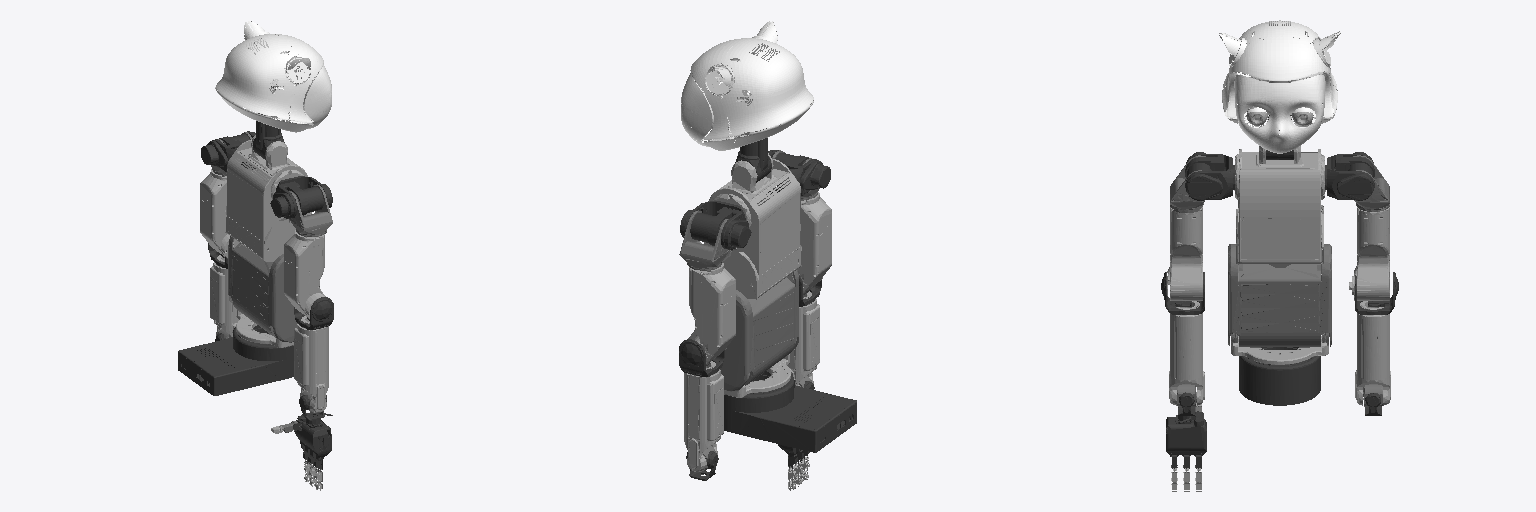
--- Render facts (derived) ---
The picture shows the robot from 3 angles, left to right: view 1: azimuth 30°, elevation 25°; view 2: azimuth 150°, elevation 25°; view 3: azimuth 270°, elevation 25°; orthographic projection.
Model dreamer with 47 links and 46 joints (39 revolute, 7 fixed), rooted at world, posed every joint at zero.
Links seen in each view (by area): view 1: upper_neck_pitch_link, torso_upper_pitch_link, panplate_link, torso_lower_pitch_link, right_shoulder_rotator_link, right_wrist_rotator_link, left_shoulder_rotator_link, right_shoulder_extensor_link, left_wrist_rotator_link, palm, right_shoulder_abductor_link, left_shoulder_extensor_link (+3 smaller); view 2: upper_neck_pitch_link, torso_upper_pitch_link, panplate_link, torso_lower_pitch_link, left_shoulder_rotator_link, left_wrist_rotator_link, right_shoulder_rotator_link, left_shoulder_extensor_link, right_wrist_rotator_link, left_shoulder_abductor_link, right_shoulder_extensor_link, left_elbow_link (+2 smaller); view 3: upper_neck_pitch_link, torso_upper_pitch_link, torso_lower_pitch_link, panplate_link, left_shoulder_rotator_link, right_shoulder_rotator_link, right_wrist_rotator_link, left_wrist_rotator_link, right_shoulder_extensor_link, left_shoulder_extensor_link, palm, torso_yaw_link (+4 smaller).
Boxes of the visible links, x1,y1,x2,y2 form: upper_neck_pitch_link: [215, 21, 331, 132]; torso_upper_pitch_link: [226, 135, 311, 261]; panplate_link: [178, 325, 293, 395]; torso_lower_pitch_link: [228, 236, 297, 342]; right_shoulder_rotator_link: [284, 230, 325, 318]; right_wrist_rotator_link: [294, 316, 328, 412]; left_shoulder_rotator_link: [200, 169, 229, 258]; right_shoulder_extensor_link: [270, 176, 332, 218]; left_wrist_rotator_link: [210, 255, 238, 337]; palm: [294, 413, 332, 460]; right_shoulder_abductor_link: [289, 184, 332, 236]; left_shoulder_extensor_link: [201, 131, 255, 171]; upper_neck_pitch_link: [681, 21, 813, 150]; torso_upper_pitch_link: [704, 153, 801, 299]; panplate_link: [724, 371, 856, 452]; torso_lower_pitch_link: [720, 270, 798, 391]; left_shoulder_rotator_link: [688, 263, 735, 363]; left_wrist_rotator_link: [684, 361, 723, 471]; right_shoulder_rotator_link: [797, 192, 831, 292]; left_shoulder_extensor_link: [680, 201, 751, 249]; right_wrist_rotator_link: [787, 291, 819, 385]; left_shoulder_abductor_link: [679, 210, 729, 271]; right_shoulder_extensor_link: [768, 150, 830, 195]; left_elbow_link: [679, 339, 724, 376]; upper_neck_pitch_link: [1219, 20, 1340, 153]; torso_upper_pitch_link: [1234, 146, 1325, 280]; torso_lower_pitch_link: [1228, 244, 1331, 347]; panplate_link: [1239, 347, 1320, 405]; left_shoulder_rotator_link: [1349, 207, 1389, 300]; right_shoulder_rotator_link: [1167, 207, 1202, 300]; right_wrist_rotator_link: [1169, 301, 1204, 405]; left_wrist_rotator_link: [1355, 301, 1390, 405]; right_shoulder_extensor_link: [1185, 152, 1234, 200]; left_shoulder_extensor_link: [1325, 152, 1374, 200]; palm: [1166, 411, 1206, 456]; torso_yaw_link: [1231, 333, 1328, 364].
Size in the robot's own frame: 0.3941 by 0.55 by 1.18 metres.
38 mesh visuals loaded from 27 distinct referenced files (24 binary STL); not drawn: 5 (reference not matched to a file when rendering).

The robot description file, URDF, robot "dreamer":
<?xml version="1.0" ?>
<!-- =================================================================================== -->
<!-- |    This document was autogenerated by xacro from dreamer_linked_to_world.xacro  | -->
<!-- |    EDITING THIS FILE BY HAND IS NOT RECOMMENDED                                 | -->
<!-- =================================================================================== -->
<robot name="dreamer" xmlns:controller="http://playerstage.sourceforge.net/gazebo/xmlschema/#controller" xmlns:interface="http://playerstage.sourceforge.net/gazebo/xmlschema/#interface" xmlns:joint="http://playerstage.sourceforge.net/gazebo/xmlschema/#slider" xmlns:sensor="http://playerstage.sourceforge.net/gazebo/xmlschema/#sensor" xmlns:xacro="http://ros.org/wiki/xacro">
  <!-- Gazebo uses model:// for the model path. -->
  <!-- RViz uses package:// for the model path. -->
  <!-- <property name="MESH" value="mid_res" /> -->
  <!-- Its seems that zero mass links are not kosher. I can't find any solid data, only suggestions from people
    as to what small but not too small should be for mass numbers.
    Until better evidence/experience says otherwise, we will use a mass that is ~0.1% * total_mass, and
    the inertia properties of a cylinder. Justification: Most of these virtual links are the rotor attached
    to gearing and any attachment structure.
     -->
  <!--Torso-->
  <!-- ensure that modelPath, MESH, TORSO are defined in parent xacro -->
  <!-- Arms -->
  <!-- ============================   Upper Arm   ============================ -->
  <!-- ============================   Forearm   ============================ -->
  <!-- for non-symmetric upper arm -->
  <!-- ============================   Upper Arm   ============================ -->
  <!-- ============================   Forearm   ============================ -->
  <!-- Meka Hand -->
  <!-- INERTIA MATRIX CHANGE BY POLAM, VALUE=0.0011100-->
  <!-- INERTIA MATRIX CHANGE BY POLAM, VALUE=0.0011100-->
  <!-- Meka Head -->
  <!-- INERTIA MATRIX CHANGE BY POLAM, VALUE=0.0011100-->
  <!-- Define various colors -->
  <material name="GreyA">
    <color rgba="0.3 0.3 0.3 1.0"/>
  </material>
  <material name="GreyB">
    <color rgba="0.5 0.5 0.5 1.0"/>
  </material>
  <material name="GreyC">
    <color rgba="0.7 0.7 0.7 1.0"/>
  </material>

  <material name="face_main">
    <color rgba="1.0 1.0 1.0 1.0"/>
  </material>
  <material name="hair_main">
    <color rgba="1.0 0.5 0.0 1.0"/>
  </material>

  <!-- Add Dreamer's torso and specify the height of the pan plate above the ground. -->
  <link name="panplate_link">
    <inertial>
      <mass value="8"/>
      <origin xyz="0 0 0.8"/>
      <inertia ixx=".8" ixy="0" ixz="0" iyy=".8" iyz="0" izz=".8"/>
    </inertial>
    <visual>
      <material name="GreyA"/>
      <origin rpy="0 0 0 " xyz="0 0 0.8"/>
      <geometry name="panplate_geom">
        <mesh filename="package://dreamer_viz/models/dreamer/meka_description/meshes/optimized/T2R3/T2R3_TJ0_base.stl"/>
      </geometry>
    </visual>
    <collision>
      <origin rpy="0.0 0.0 0.0 " xyz="0 0 0.8"/>
      <geometry name="base_collision_geom">
        <mesh filename="package://dreamer_viz/models/dreamer/meka_description/meshes/low_res/T2R3/T2R3_TJ0_base.stl"/>
      </geometry>
    </collision>
  </link>
  <joint name="torso_yaw" type="fixed">
    <axis xyz="0 0 1"/>
    <origin rpy="0 0 0" xyz="0 0 0.9678"/>
    <parent link="panplate_link"/>
    <child link="torso_yaw_link"/>
    <limit effort="100" lower="-1.57079632679" upper="1.57079632679" velocity="0.436332312999"/>
    <dynamics damping="1.0"/>
  </joint>
  <link name="torso_yaw_link">
    <inertial>
      <mass value="4.411"/>
      <origin xyz="0.00011774 0.0038073 -0.0522753"/>
      <inertia ixx="0.026360" ixy="-0.0000024" ixz="-0.0000508" iyy="0.0134266" iyz="0.0006839" izz="0.0229879"/>
    </inertial>
    <visual>
      <material name="GreyC"/>
      <origin rpy="0 0 0 " xyz="0 0 0"/>
      <geometry name="torso_geom">
        <mesh filename="package://dreamer_viz/models/dreamer/meka_description/meshes/optimized/T2R3/T2R3_TJ1_pan.stl"/>
      </geometry>
    </visual>
    <collision>
      <origin rpy="0.0 0.0 0.0 " xyz="0 0 0"/>
      <geometry name="torso_collision_geom">
        <mesh filename="package://dreamer_viz/models/dreamer/meka_description/meshes/low_res/T2R3/T2R3_TJ1_pan.stl"/>
      </geometry>
    </collision>
  </link>
  <joint name="torso_lower_pitch" type="revolute">
    <axis xyz="0 1 0"/>
    <origin rpy="0 0 0" xyz="0 0 0"/>
    <parent link="torso_yaw_link"/>
    <child link="torso_lower_pitch_link"/>
    <limit effort="200" lower="-0.366519142919" upper="0.872664625997" velocity="0.174532925199"/>
    <dynamics damping="1.0"/>
  </joint>
  <link name="torso_lower_pitch_link">
    <inertial>
      <mass value="4.934"/>
      <origin xyz="0.001179 -0.002993 0.046259"/>
      <inertia ixx="0.041106" ixy="0.000135" ixz="0.000505" iyy="0.026009" iyz="0.002396" izz="0.025902"/>
    </inertial>
    <visual>
      <material name="GreyB"/>
      <origin rpy="0 0 0" xyz="0 0 0"/>
      <geometry name="mid_geom">
        <mesh filename="package://dreamer_viz/models/dreamer/meka_description/meshes/optimized/T2R3/T2R3_TJ2.stl"/>
      </geometry>
    </visual>
    <collision>
      <origin rpy="0.0 0.0 0.0 " xyz="0 0 0"/>
      <geometry name="mid_collision_geom">
        <mesh filename="package://dreamer_viz/models/dreamer/meka_description/meshes/low_res/T2R3/T2R3_TJ2.stl"/>
      </geometry>
    </collision>
  </link>
  <joint name="torso_upper_pitch" type="revolute">
    <axis xyz="0 1 0"/>
    <origin rpy="0 0 0" xyz="0 0 0.1397"/>
    <parent link="torso_lower_pitch_link"/>
    <child link="torso_upper_pitch_link"/>
    <limit effort="200" lower="-0.366519142919" upper="0.872664625997" velocity="0.174532925199"/>
    <dynamics damping="1.0"/>
  </joint>
  <!-- torso with motors, bottom pullies, and neck mount -->
  <link name="torso_upper_pitch_link">
    <inertial>
      <mass value="6.534"/>
      <origin xyz="0.008700 0.011470 0.129740"/>
      <inertia ixx="0.069760" ixy="-0.000400" ixz="0.001300" iyy="0.048010" iyz="0.005100" izz="0.040590"/>
    </inertial>
    <visual>
      <material name="GreyC"/>
      <origin rpy="0 0 0" xyz="0 0 0"/>
      <geometry name="upper_geom">
        <mesh filename="package://dreamer_viz/models/dreamer/meka_description/meshes/optimized/T2R3/T2R3_TJ3_chest_waist_neck.stl"/>
      </geometry>
    </visual>
    <collision>
      <origin rpy="0.0 0.0 0.0 " xyz="0 0 0"/>
      <geometry name="upper_collision_geom">
        <mesh filename="package://dreamer_viz/models/dreamer/meka_description/meshes/low_res/T2R3/T2R3_TJ3_chest_waist_neck.stl"/>
      </geometry>
    </collision>
  </link>
  <!-- Add left and right arms. -->
  <!-- Shoulder pan -->
  <joint name="right_shoulder_extensor" type="revolute">
    <axis xyz="0 -1 0"/>
    <origin rpy="0 0 0" xyz="0.0 -0.18465 0.2337"/>
    <!-- transform from parent link to this joint frame -->
    <parent link="torso_upper_pitch_link"/>
    <child link="right_shoulder_extensor_link"/>
    <limit effort="40" lower="-1.3962634016" upper="3.49065850399" velocity="0.523598775598"/>
    <dynamics damping="1.0"/>
  </joint>
  <link name="right_shoulder_extensor_link">
    <inertial>
      <mass value="2.0310"/>
      <origin xyz="-0.010946 0.025127 0.000022"/>
      <inertia ixx="0.003461" ixy="0.000428" ixz="0.000002" iyy="0.003097" iyz="0.000000" izz="0.005416"/>
    </inertial>
    <visual>
      <material name="GreyA"/>
      <origin rpy="0 0 0 " xyz="0 0 0"/>
      <geometry name="r_shoulder_geom">
        <mesh filename="package://dreamer_viz/models/dreamer/meka_description/meshes/optimized/A2R3/A2R3_RT1_shoulderRoll.stl"/>
      </geometry>
    </visual>
    <collision>
      <origin rpy="0.0 0.0 0.0 " xyz="0 0 0"/>
      <geometry name="r_shoulder_collision_geom">
        <mesh filename="package://dreamer_viz/models/dreamer/meka_description/meshes/low_res/A2R3/A2R3_RT1_shoulderRoll.stl"/>
      </geometry>
    </collision>
  </link>
  <joint name="right_shoulder_abductor" type="revolute">
    <axis xyz="-1 0 0"/>
    <limit effort="40" lower="-0.418879020479" upper="2.61799387799" velocity="0.523598775598"/>
    <origin rpy="0 0 0" xyz="0 0 0"/>
    <parent link="right_shoulder_extensor_link"/>
    <child link="right_shoulder_abductor_link"/>
    <dynamics damping="1.0"/>
  </joint>
  <link name="right_shoulder_abductor_link">
    <inertial>
      <mass value="0.566"/>
      <origin xyz="0.000944 -0.026331 -0.043257"/>
      <inertia ixx="0.000754" ixy="0.000015" ixz="0.000014" iyy="0.000921" iyz="0.000142" izz="0.000834"/>
    </inertial>
    <visual>
      <material name="GreyB"/>
      <origin rpy="0 0 0 " xyz="0 0 0"/>
      <geometry name="right_shoulder_abductor_link">
        <mesh filename="package://dreamer_viz/models/dreamer/meka_description/meshes/optimized/A2R3/A2R3_RT2_shoulderPitch.stl"/>
      </geometry>
    </visual>
    <collision>
      <origin rpy="0.0 0.0 0.0 " xyz="0 0 0"/>
      <geometry name="right_shoulder_abductor_link_collision">
        <mesh filename="package://dreamer_viz/models/dreamer/meka_description/meshes/low_res/A2R3/A2R3_RT2_shoulderPitch.stl"/>
      </geometry>
    </collision>
  </link>
  <joint name="right_shoulder_rotator" type="revolute">
    <axis xyz="0 0 -1"/>
    <origin rpy="0 0 0" xyz="0 -0.03175 -0.27857"/>
    <parent link="right_shoulder_abductor_link"/>
    <child link="right_shoulder_rotator_link"/>
    <limit effort="20" lower="-1.4835298642" upper="1.4835298642" velocity="0.872664625997"/>
    <dynamics damping="1.0"/>
  </joint>
  <link name="right_shoulder_rotator_link">
    <inertial>
      <mass value="2.296"/>
      <origin xyz="-0.005767 0.084539 0.001385"/>
      <inertia ixx="0.013031" ixy="-0.000564" ixz="-0.000077" iyy="0.002070" iyz="0.000162" izz="0.013173"/>
    </inertial>
    <visual>
      <material name="GreyC"/>
      <origin rpy="0 0 0 " xyz="0 0 0"/>
      <geometry name="right_shoulder_rotator_link_geom">
        <mesh filename="package://dreamer_viz/models/dreamer/meka_description/meshes/optimized/A2R3/A2R3_RT3_bicep.stl"/>
      </geometry>
    </visual>
    <collision>
      <origin rpy="0.0 0.0 0.0 " xyz="0 0 0"/>
      <geometry name="right_shoulder_rotator_link_geom_collision">
        <mesh filename="package://dreamer_viz/models/dreamer/meka_description/meshes/low_res/A2R3/A2R3_RT3_bicep.stl"/>
      </geometry>
    </collision>
  </link>
  <joint name="right_elbow" type="revolute">
    <axis xyz="0 -1 0"/>
    <origin rpy="0 0 0" xyz="0.00502 0  0"/>
    <parent link="right_shoulder_rotator_link"/>
    <child link="right_elbow_link"/>
    <limit effort="20" lower="-0.00486908464063" upper="2.31810267927" velocity="0.872664625997"/>
    <!-- <dynamics damping="10.0" /> -->
    <dynamics damping="1.0"/>
    <!-- Changed by liang to allow elbow to bend in simulation -->
  </joint>
  <link name="right_elbow_link">
    <inertial>
      <mass value="0.223"/>
      <origin xyz="-0.000002 0.000278 -0.026124"/>
      <inertia ixx="0.000470" ixy="0.000000" ixz="0.000000" iyy="0.000233" iyz="0.000019" izz="0.000425"/>
    </inertial>
    <visual>
      <material name="GreyA"/>
      <origin rpy="0 0 0 " xyz="0 0 0"/>
      <geometry name="right_elbow_link_geom">
        <mesh filename="package://dreamer_viz/models/dreamer/meka_description/meshes/optimized/A2R3/A2R3_RT4_elbow.stl"/>
      </geometry>
    </visual>
    <collision>
      <origin rpy="0.0 0.0 0.0 " xyz="0 0 0"/>
      <geometry name="right_elbow_link_collision">
        <mesh filename="package://dreamer_viz/models/dreamer/meka_description/meshes/low_res/A2R3/A2R3_RT4_elbow.stl"/>
      </geometry>
    </collision>
  </link>
  <joint name="right_wrist_rotator" type="revolute">
    <axis xyz="0 0 -1"/>
    <limit effort="4" lower="-0.862192650485" upper="4.00378530407" velocity="2.61799387799"/>
    <origin rpy="0 0 0" xyz="0 0 -0.27747"/>
    <parent link="right_elbow_link"/>
    <child link="right_wrist_rotator_link"/>
    <dynamics damping="1.0"/>
  </joint>
  <link name="right_wrist_rotator_link">
    <inertial>
      <mass value="1.468"/>
      <origin xyz="-0.004404 0.000124 0.130931"/>
      <inertia ixx="0.006099" ixy="0.000004" ixz="-0.000043" iyy="0.006120" iyz="0.000015" izz="0.001179"/>
    </inertial>
    <visual>
      <material name="GreyC"/>
      <origin rpy="0 0 0 " xyz="0 0 0"/>
      <geometry name="right_wrist_rotator_link_geom">
        <mesh filename="package://dreamer_viz/models/dreamer/meka_description/meshes/optimized/A2R3/A2R3_T5_forearmRoll.stl"/>
      </geometry>
    </visual>
    <collision>
      <origin rpy="0.0 0.0 0.0 " xyz="0 0 0"/>
      <geometry name="right_wrist_rotator_link_collision">
        <mesh filename="package://dreamer_viz/models/dreamer/meka_description/meshes/low_res/A2R3/A2R3_T5_forearmRoll.stl"/>
      </geometry>
    </collision>
  </link>
  <joint name="right_wrist_pitch" type="revolute">
    <dynamics damping="1.0"/>
    <axis xyz="0 -1 0"/>
    <origin rpy="0 0 0" xyz="0 0 0"/>
    <parent link="right_wrist_rotator_link"/>
    <child link="right_wrist_pitch_link"/>
    <limit effort="8" lower="-1.02677719895" upper="1.02677719895" velocity="0.698131700798"/>
  </joint>
  <link name="right_wrist_pitch_link">
    <inertial>
      <mass value="0.278"/>
      <origin xyz="0.00008 0.00163 0.00123"/>
      <inertia ixx="0.00013" ixy="0" ixz="0" iyy="0.00014" iyz="0" izz="0.0009"/>
    </inertial>
    <visual>
      <material name="GreyB"/>
      <origin rpy="0 0 0 " xyz="0 0 0"/>
      <geometry name="right_wrist_pitch_link_geom">
        <mesh filename="package://dreamer_viz/models/dreamer/meka_description/meshes/optimized/A2R3/A2R3_T6_wristDiff.stl"/>
      </geometry>
    </visual>
    <collision>
      <origin rpy="0.0 0.0 0.0 " xyz="0 0 0"/>
      <geometry name="right_wrist_pitch_link_collision">
        <box size="0.01 0.01 0.01"/>
      </geometry>
    </collision>
  </link>
  <joint name="right_wrist_yaw" type="revolute">
    <axis xyz="-1 0 0"/>
    <limit effort="8" lower="-1.0471975512" upper="1.0471975512" velocity="0.698131700798"/>
    <origin rpy="0 0 0" xyz="0 0 0"/>
    <parent link="right_wrist_pitch_link"/>
    <child link="right_wrist_yaw_link"/>
    <dynamics damping="1.0"/>
  </joint>
  <link name="right_wrist_yaw_link">
    <inertial>
      <mass value="0.093"/>
      <origin xyz="-0.00286  -0.00207 -0.10657"/>
      <inertia ixx="0.00485" ixy="0" ixz="0" iyy="0.00508" iyz="0" izz="0.00081"/>
    </inertial>
    <visual>
      <material name="GreyA"/>
      <origin rpy="0 0 0 " xyz="0 0 0"/>
      <geometry name="right_wrist_yaw_link_geom">
        <mesh filename="package://dreamer_viz/models/dreamer/meka_description/meshes/optimized/A2R3/A2R3_T7_wristYaw.stl"/>
      </geometry>
    </visual>
    <collision>
      <origin rpy="0.0 0.0 0.0 " xyz="0 0 0"/>
      <geometry name="right_wrist_yaw_link_collision">
        <mesh filename="package://dreamer_viz/models/dreamer/meka_description/meshes/low_res/A2R3/A2R3_T7_wristYaw.stl"/>
      </geometry>
    </collision>
  </link>
  <!-- Shoulder pan -->
  <joint name="left_shoulder_extensor" type="revolute">
    <axis xyz="0 -1 0"/>
    <origin rpy="0 0 0" xyz="0.0 0.18465 0.2337"/>
    <!-- transform from parent link to this joint frame -->
    <parent link="torso_upper_pitch_link"/>
    <child link="left_shoulder_extensor_link"/>
    <limit effort="40" lower="-1.3962634016" upper="3.49065850399" velocity="0.523598775598"/>
    <dynamics damping="1.0"/>
  </joint>
  <link name="left_shoulder_extensor_link">
    <inertial>
      <mass value="2.0310"/>
      <origin xyz="-0.010946 -0.025127 0.000022"/>
      <inertia ixx="0.003461" ixy="0.000428" ixz="0.000002" iyy="0.003097" iyz="0.000000" izz="0.005416"/>
    </inertial>
    <visual>
      <material name="GreyA"/>
      <origin rpy="3.14159265359 0 0 " xyz="0 0 0"/>
      <geometry name="l_shoulder_geom">
        <mesh filename="package://dreamer_viz/models/dreamer/meka_description/meshes/optimized/A2R3/A2R3_RT1_shoulderRoll.stl"/>
      </geometry>
    </visual>
    <collision>
      <origin rpy="3.14159265359 0.0 0.0 " xyz="0 0 0"/>
      <geometry name="r_shoulder_collision_geom">
        <mesh filename="package://dreamer_viz/models/dreamer/meka_description/meshes/low_res/A2R3/A2R3_RT1_shoulderRoll.stl"/>
      </geometry>
    </collision>
  </link>
  <joint name="left_shoulder_abductor" type="revolute">
    <axis xyz="-1 0 0"/>
    <limit effort="40" lower="-0.418879020479" upper="2.61799387799" velocity="0.523598775598"/>
    <origin rpy="0 0 3.14159265359" xyz="0 0 0"/>
    <parent link="left_shoulder_extensor_link"/>
    <child link="left_shoulder_abductor_link"/>
    <dynamics damping="1.0"/>
  </joint>
  <link name="left_shoulder_abductor_link">
    <inertial>
      <mass value="0.566"/>
      <origin xyz="-0.000944 -0.026331 -0.043257"/>
      <inertia ixx="0.000754" ixy="0.000015" ixz="0.000014" iyy="0.000921" iyz="0.000142" izz="0.000834"/>
    </inertial>
    <visual>
      <material name="GreyB"/>
      <origin rpy="0 0 0 " xyz="0 0 0"/>
      <geometry name="left_shoulder_abductor_link">
        <mesh filename="package://dreamer_viz/models/dreamer/meka_description/meshes/optimized/A2R3/A2R3_RT2_shoulderPitch.stl"/>
      </geometry>
    </visual>
    <collision>
      <origin rpy="0.0 0.0 0.0 " xyz="0 0 0"/>
      <geometry name="left_shoulder_abductor_link_collision">
        <mesh filename="package://dreamer_viz/models/dreamer/meka_description/meshes/low_res/A2R3/A2R3_RT2_shoulderPitch.stl"/>
      </geometry>
    </collision>
  </link>
  <joint name="left_shoulder_rotator" type="revolute">
    <axis xyz="0 0 1"/>
    <origin rpy="0 0 3.14159265359" xyz="0 -0.03175 -0.27857"/>
    <parent link="left_shoulder_abductor_link"/>
    <child link="left_shoulder_rotator_link"/>
    <limit effort="20" lower="-1.4835298642" upper="1.4835298642" velocity="0.872664625997"/>
    <dynamics damping="1.0"/>
  </joint>
  <link name="left_shoulder_rotator_link">
    <inertial>
      <mass value="2.296"/>
      <origin xyz="-0.005767 0.084539 0.001385"/>
      <inertia ixx="0.013031" ixy="-0.000564" ixz="-0.000077" iyy="0.002070" iyz="0.000162" izz="0.013173"/>
    </inertial>
    <visual>
      <material name="GreyC"/>
      <origin rpy="0 0 0 " xyz="0 0 0"/>
      <geometry name="left_shoulder_rotator_link_geom">
        <mesh filename="package://dreamer_viz/models/dreamer/meka_description/meshes/optimized/A2R3/A2R3_RT3_bicep.stl"/>
      </geometry>
    </visual>
    <collision>
      <origin rpy="0.0 0.0 0.0 " xyz="0 0 0"/>
      <geometry name="left_shoulder_rotator_link_geom_collision">
        <mesh filename="package://dreamer_viz/models/dreamer/meka_description/meshes/low_res/A2R3/A2R3_RT3_bicep.stl"/>
      </geometry>
    </collision>
  </link>
  <joint name="left_elbow" type="revolute">
    <axis xyz="0 1 0"/>
    <origin rpy="0 0 3.14159265359" xyz="0.00502 0  0"/>
    <parent link="left_shoulder_rotator_link"/>
    <child link="left_elbow_link"/>
    <limit effort="20" lower="-0.00486908464063" upper="2.31810267927" velocity="0.872664625997"/>
    <dynamics damping="1.0"/>
    <!-- Changed by liang to allow elbow to bend in simulation -->
  </joint>
  <link name="left_elbow_link">
    <inertial>
      <mass value="0.223"/>
      <origin xyz="0.000002 -0.000278 -0.026124"/>
      <inertia ixx="0.000470" ixy="0.000000" ixz="0.000000" iyy="0.000233" iyz="0.000019" izz="0.000425"/>
    </inertial>
    <visual>
      <material name="GreyA"/>
      <origin rpy="0 0 0 " xyz="0 0 0"/>
      <geometry name="left_elbow_link_geom">
        <mesh filename="package://dreamer_viz/models/dreamer/meka_description/meshes/optimized/A2R3/A2R3_RT4_elbow.stl"/>
      </geometry>
    </visual>
    <collision>
      <origin rpy="0.0 0.0 0.0 " xyz="0 0 0"/>
      <geometry name="left_elbow_link_collision">
        <mesh filename="package://dreamer_viz/models/dreamer/meka_description/meshes/low_res/A2R3/A2R3_RT4_elbow.stl"/>
      </geometry>
    </collision>
  </link>
  <joint name="left_wrist_rotator" type="revolute">
    <axis xyz="0 0 1"/>
    <limit effort="4" lower="-0.862192650485" upper="4.00378530407" velocity="2.61799387799"/>
    <origin rpy="0 0 3.14159265359" xyz="0 0 -0.27747"/>
    <parent link="left_elbow_link"/>
    <child link="left_wrist_rotator_link"/>
    <dynamics damping="1.0"/>
  </joint>
  <link name="left_wrist_rotator_link">
    <inertial>
      <mass value="1.468"/>
      <origin xyz="-0.004404 0.000124 0.130931"/>
      <inertia ixx="0.006099" ixy="0.000004" ixz="-0.000043" iyy="0.006120" iyz="0.000015" izz="0.001179"/>
    </inertial>
    <visual>
      <material name="GreyC"/>
      <origin rpy="0 0 0 " xyz="0 0 0"/>
      <geometry name="left_wrist_rotator_link_geom">
        <mesh filename="package://dreamer_viz/models/dreamer/meka_description/meshes/optimized/A2R3/A2R3_T5_forearmRoll.stl"/>
      </geometry>
    </visual>
    <collision>
      <origin rpy="0.0 0.0 0.0 " xyz="0 0 0"/>
      <geometry name="left_wrist_rotator_link_collision">
        <mesh filename="package://dreamer_viz/models/dreamer/meka_description/meshes/low_res/A2R3/A2R3_T5_forearmRoll.stl"/>
      </geometry>
    </collision>
  </link>
  <joint name="left_wrist_pitch" type="revolute">
    <dynamics damping="1.0"/>
    <axis xyz="0 -1 0"/>
    <origin rpy="0 0 0" xyz="0 0 0"/>
    <parent link="left_wrist_rotator_link"/>
    <child link="left_wrist_pitch_link"/>
    <limit effort="8" lower="-1.02677719895" upper="1.02677719895" velocity="0.698131700798"/>
  </joint>
  <link name="left_wrist_pitch_link">
    <inertial>
      <mass value="0.278"/>
      <origin xyz="0.00008 0.00163 0.00123"/>
      <inertia ixx="0.00013" ixy="0" ixz="0" iyy="0.00014" iyz="0" izz="0.0009"/>
    </inertial>
    <visual>
      <material name="GreyB"/>
      <origin rpy="0 0 0" xyz="0 0 0"/>
      <geometry name="left_wrist_pitch_link_geom">
        <mesh filename="package://dreamer_viz/models/dreamer/meka_description/meshes/optimized/A2R3/A2R3_T6_wristDiff.stl"/>
      </geometry>
    </visual>
    <collision>
      <origin rpy="0.0 0.0 0.0" xyz="0 0 0"/>
      <geometry name="left_wrist_pitch_link_collision">
        <box size="0.01 0.01 0.01"/>
      </geometry>
    </collision>
  </link>
  <joint name="left_wrist_yaw" type="revolute">
    <axis xyz="1 0 0"/>
    <limit effort="8" lower="-1.0471975512" upper="1.0471975512" velocity="0.698131700798"/>
    <origin rpy="0 0 0" xyz="0 0 0"/>
    <parent link="left_wrist_pitch_link"/>
    <child link="left_wrist_yaw_link"/>
    <dynamics damping="1.0"/>
  </joint>
  <link name="left_wrist_yaw_link">
    <inertial>
      <mass value="0.093"/>
      <origin xyz="-0.00286  -0.00207 -0.10657"/>
      <inertia ixx="0.00485" ixy="0" ixz="0" iyy="0.00508" iyz="0" izz="0.00081"/>
    </inertial>
    <visual>
      <material name="GreyA"/>
      <origin rpy="0 0 0" xyz="0 0 0"/>
      <geometry name="left_wrist_yaw_link_geom">
        <mesh filename="package://dreamer_viz/models/dreamer/meka_description/meshes/optimized/A2R3/A2R3_T7_wristYaw.stl"/>
      </geometry>
    </visual>
    <collision>
      <origin rpy="0.0 0.0 0.0 " xyz="0 0 0"/>
      <geometry name="left_wrist_yaw_link_collision">
        <mesh filename="package://dreamer_viz/models/dreamer/meka_description/meshes/low_res/A2R3/A2R3_T7_wristYaw.stl"/>
      </geometry>
    </collision>
  </link>
  <!-- Add the head. -->
  <joint name="lower_neck_pitch" type="revolute">
    <axis xyz="0 -1 0"/>
    <origin rpy="0 0 0" xyz="0.0 0.0 0.31155"/>
    <!-- transform from parent link to this joint frame -->
    <parent link="torso_upper_pitch_link"/>
    <child link="lower_neck_pitch_link"/>
    <limit effort="100" lower="-0.698131700798" upper="0.261799387799" velocity="0.349065850399"/>
  </joint>
  <link name="lower_neck_pitch_link">
    <inertial>
      <mass value="0.940"/>
      <origin xyz="0.000061 0.003310 0.028798"/>
      <inertia ixx="0.001395" ixy="-0.000000" ixz="-0.000000" iyy="0.001345" iyz="-0.000085" izz="0.000392"/>
    </inertial>
    <visual>
      <material name="GreyA"/>
      <origin rpy="0 0 0 " xyz="0 0 0"/>
      <geometry name="lower_neck_pitch_link_geom">
        <mesh filename="package://dreamer_viz/models/dreamer/meka_description/meshes/optimized/S2R1/S2R1_SH1_neckTilt.stl"/>
      </geometry>
    </visual>
    <collision>
      <origin rpy="0.0 0.0 0.0 " xyz="0 0 0"/>
      <geometry name="lower_neck_pitch_link_geom_collison">
        <mesh filename="package://dreamer_viz/models/dreamer/meka_description/meshes/low_res/S2R1/S2R1_SH1_neckTilt.stl"/>
      </geometry>
    </collision>
  </link>
  <joint name="upper_neck_yaw" type="revolute">
    <axis xyz="0 0 1"/>
    <limit effort="100" lower="-1.41230297742" upper="1.41214589779" velocity="1.308996939"/>
    <origin rpy="0 0 0" xyz="0 0 0.13849"/>
    <parent link="lower_neck_pitch_link"/>
    <child link="upper_neck_yaw_link"/>
  </joint>
  <link name="upper_neck_yaw_link">
    <inertial>
      <mass value="0.409"/>
      <origin xyz="0.0 0.0 0.0"/>
      <inertia ixx="0.0011100" ixy="0.0" ixz="0.0" iyy="0.0011100" iyz="0.0" izz="0.0011100"/>
    </inertial>
    <visual>
      <material name="GreyB"/>
      <origin rpy="0 0 0 " xyz="0 0 0"/>
      <geometry name="neck_roll_geom">
        <mesh filename="package://dreamer_viz/models/dreamer/meka_description/meshes/optimized/S2R1/S2R1_SH2_neckRoll.stl"/>
      </geometry>
    </visual>
    <collision>
      <origin rpy="0.0 0.0 0.0 " xyz="0 0 0"/>
      <geometry name="S2R1_SH2_neckRoll_collision">
        <box size="0.01 0.01 0.01"/>
      </geometry>
    </collision>
  </link>
  <joint name="upper_neck_roll" type="revolute">
    <axis xyz="-1 0 0"/>
    <origin rpy="0 0 0" xyz="0 0 0"/>
    <parent link="upper_neck_yaw_link"/>
    <child link="upper_neck_roll_link"/>
    <limit effort="100" lower="-0.260752190248" upper="0.260752190248" velocity="0.872664625997"/>
  </joint>
  <link name="upper_neck_roll_link">
    <inertial>
      <mass value="0.496"/>
      <origin xyz="-0.010690 0.053982 0.000045"/>
      <inertia ixx="0.001094" ixy="0.000284" ixz="0.000000" iyy="0.000311" iyz="0.000000" izz="0.001222"/>
    </inertial>
    <visual>
      <material name="GreyC"/>
      <origin rpy="0 0 0 " xyz="0 0 0"/>
      <geometry name="S2R1_H3_neckYaw_geom">
        <mesh filename="package://dreamer_viz/models/dreamer/meka_description/meshes/optimized/S2R1/S2R1_H3_neckYaw.stl"/>
      </geometry>
    </visual>
    <collision>
      <origin rpy="0.0 0.0 0.0 " xyz="0 0 0"/>
      <geometry name="S2R1_H3_neckYaw_collision">
        <box size="0.01 0.01 0.01"/>
      </geometry>
    </collision>
  </link>
  <joint name="upper_neck_pitch" type="revolute">
    <axis xyz="0 -1 0"/>
    <origin rpy="0 0 0" xyz="0 0 0"/>
    <parent link="upper_neck_roll_link"/>
    <child link="upper_neck_pitch_link"/>
    <limit effort="100" lower="-0.123429684701" upper="0.647028460299" velocity="0.872664625997"/>
  </joint>
  <link name="upper_neck_pitch_link">
    <inertial>
      <mass value="3.178"/>
      <origin xyz="0.034944 0.000563 0.058668"/>
      <inertia ixx="0.022924" ixy="-0.000034" ixz="-0.002929" iyy="0.021814" iyz="-0.000235" izz="0.026783"/>
    </inertial>
    <visual>
      <!-- <material name="GreyA"/> -->
      <material name="face_main"/>      
      <origin rpy="0 0 0 " xyz="0 0 0"/>
      <geometry name="upper_pitch_link_geom">
        <mesh filename="package://dreamer_viz/models/dreamer/meka_description/meshes/optimized/S2R1/S2R1_H4_UTA_head.stl"/>
      </geometry>
    </visual>
    <collision>
      <origin rpy="0.0 0.0 0.0 " xyz="0 0 0"/>
      <geometry name="upper_pitch_link_collision">
        <mesh filename="package://dreamer_viz/models/dreamer/meka_description/meshes/low_res/S2R1/S2R1_H4_UTA_head.stl"/>
      </geometry>
    </collision>
  </link>
  <joint name="eye_pitch" type="revolute">
    <axis xyz="0 -1 0"/>
    <limit effort="100" lower="-0.610690705273" upper="0.610690705273" velocity="27.9252680319"/>
    <origin rpy="0 0 0" xyz="0.12508 0 0"/>
    <parent link="upper_neck_pitch_link"/>
    <child link="eye_pitch_link"/>
  </joint>
  <link name="eye_pitch_link">
    <!--Added by Gwen; no inertial data provided by Meka-->
    <inertial>
      <mass value="0.00001"/>
      <origin xyz="0.00000 0.0000 0.0000"/>
      <inertia ixx="0.0011100" ixy="0.0" ixz="0.0" iyy="0.0011100" iyz="0.0" izz="0.0011100"/>
    </inertial>
    <visual>
      <material name="GreyC"/>
      <origin rpy="0 0 0 " xyz="0 0 0"/>
      <geometry name="eye_pitch_link_geom">
        <mesh filename="package://dreamer_viz/models/dreamer/meka_description/meshes/optimized/S2R1/S2R1_SH5_eyeTilt.stl"/>
      </geometry>
    </visual>
    <collision>
      <origin rpy="0.0 0.0 0.0 " xyz="0 0 0"/>
      <geometry name="eye_pitch_link_collision">
        <box size="0.01 0.01 0.01"/>
      </geometry>
    </collision>
  </link>
  <joint name="right_eye_yaw" type="revolute">
    <axis xyz="0 0 1"/>
    <limit effort="100" lower="-0.597077137107" upper="0.597129496985" velocity="27.9252680319"/>
    <origin rpy="0 0 0" xyz="0 -0.053 0"/>
    <parent link="eye_pitch_link"/>
    <child link="right_eye_yaw_link"/>
  </joint>
  <link name="right_eye_yaw_link">
    <!--Added by Gwen; no inertial data provided by Meka-->
    <inertial>
      <mass value="0.00001"/>
      <origin xyz="0.00000 0.0000 0.0000"/>
      <inertia ixx="0.0011100" ixy="0.0" ixz="0.0" iyy="0.0011100" iyz="0.0" izz="0.0011100"/>
    </inertial>
    <visual>
      <material name="GreyC"/>
      <origin rpy="0 0 0 " xyz="0 0 0"/>
      <geometry name="right_eye_yaw_link_geom">
        <mesh filename="package://dreamer_viz/models/dreamer/meka_description/meshes/optimized/S2R1/S2R1_eye.stl"/>
      </geometry>
    </visual>
    <collision>
      <origin rpy="0.0 0.0 0.0 " xyz="0 0 0"/>
      <geometry name="right_eye_yaw_link_collision">
        <mesh filename="package://dreamer_viz/models/dreamer/meka_description/meshes/low_res/S2R1/S2R1_eye.stl"/>
      </geometry>
    </collision>
  </link>
  <joint name="left_eye_yaw" type="revolute">
    <axis xyz="0 0 1"/>
    <limit effort="100" lower="-0.6129596333" upper="0.613046899763" velocity="27.9252680319"/>
    <origin rpy="0 0 0" xyz="0 0.053 0"/>
    <parent link="eye_pitch_link"/>
    <child link="left_eye_yaw_link"/>
  </joint>
  <link name="left_eye_yaw_link">
    <!--Added by Gwen; no inertial data provided by Meka-->
    <inertial>
      <mass value="0.00001"/>
      <origin xyz="0.00000 0.0000 0.0000"/>
      <inertia ixx="0.0011100" ixy="0.0" ixz="0.0" iyy="0.0011100" iyz="0.0" izz="0.0011100"/>
    </inertial>
    <visual>
      <material name="GreyC"/>
      <origin rpy="0 0 0 " xyz="0 0 0"/>
      <geometry name="left_eye_yaw_link_geom">
        <mesh filename="package://dreamer_viz/models/dreamer/meka_description/meshes/optimized/S2R1/S2R1_eye.stl"/>
      </geometry>
    </visual>
    <collision>
      <origin rpy="0.0 0.0 0.0 " xyz="0 0 0"/>
      <geometry name="left_eye_yaw_link_collision">
        <mesh filename="package://dreamer_viz/models/dreamer/meka_description/meshes/low_res/S2R1/S2R1_eye.stl"/>
      </geometry>
    </collision>
  </link>
  <!-- Add right hand. -->
  <joint name="palm_joint" type="fixed">
    <origin rpy="0 0 0" xyz="0 0 -0.04414"/>
    <parent link="right_wrist_yaw_link"/>
    <child link="palm"/>
  </joint>
  <link name="palm">
    <inertial>
      <mass value="0.5932"/>
      <!-- Matches mass used by UTA-WBC -->
      <!-- <mass value="0.663" /> -->
      <origin xyz="0.001459 0.001619 -0.051312"/>
      <inertia ixx="0.000873" ixy="0.000031" ixz="-0.000008" iyy="0.000597" iyz="0.000016" izz="0.000565"/>
    </inertial>
    <visual>
      <material name="GreyA"/>
      <origin rpy="0 0 0 " xyz="0 0 0"/>
      <geometry name="palm_geom">
        <mesh filename="package://dreamer_viz/models/dreamer/meka_description/meshes/optimized/H2R3/H2R3_RT8_palm_right.stl"/>
      </geometry>
    </visual>
    <collision>
      <origin rpy="0.0 0.0 0.0 " xyz="0 0 0"/>
      <geometry name="palm_collision">
        <mesh filename="package://dreamer_viz/models/dreamer/meka_description/meshes/low_res/H2R3/H2R3_RT8_palm_right.stl"/>
      </geometry>
    </collision>
  </link>
  <gazebo reference="palm">
    <mu1>1</mu1>
    <mu2>1</mu2>
  </gazebo>
  <!-- Start Thumb -->
  <joint name="right_thumb_cmc" type="revolute">
    <axis xyz="0 0 -1"/>
    <origin rpy="0 0 0" xyz="-0.02 0.028 -0.03"/>
    <parent link="palm"/>
    <child link="right_thumb_cmc_link"/>
    <limit effort="100" lower="-0.698131700798" upper="1.57079632679" velocity="0.349065850399"/>
  </joint>
  <link name="right_thumb_cmc_link">
    <inertial>
      <mass value="0.0117"/>
      <origin rpy="0 0 0" xyz="0 0 0"/>
      <inertia ixx="1.44698151e-06" ixy="0.0" ixz="0.0" iyy="2.29292115e-06" iyz="0.0" izz="1.47773964e-06"/>
    </inertial>
    <visual>
      <geometry>
        <mesh filename="package://dreamer_viz/models/dreamer/meka_description/meshes/optimized/H2R3/H2R3_RJ0_thumb_abductlink.stl" scale="1 1 1"/>
      </geometry>
      <origin rpy="0 0 0" xyz="0 0 0"/>
      <!-- <origin rpy="${origin_rpy}" xyz="${origin_xyz}"/> -->
      <material name="GreyA"/>
    </visual>
    <collision>
      <geometry>
        <mesh filename="package://dreamer_viz/models/dreamer/meka_description/meshes/low_res/H2R3/H2R3_RJ0_thumb_abductlink.stl"/>
      </geometry>
      <origin rpy="0 0 0" xyz="0 0 0"/>
    </collision>
  </link>
  <gazebo reference="right_thumb_cmc_link">
    <mu1>1</mu1>
    <mu2>1</mu2>
  </gazebo>
  <joint name="right_thumb_mcp" type="revolute">
    <axis xyz="0 -1 0"/>
    <limit effort="100" lower="-1.41230297742" upper="1.41214589779" velocity="1.308996939"/>
    <origin rpy="0 0 0" xyz="-0.018 0 0"/>
    <parent link="right_thumb_cmc_link"/>
    <child link="right_thumb_mcp_link"/>
  </joint>
  <link name="right_thumb_mcp_link">
    <inertial>
      <mass value="0.0344"/>
      <origin xyz="0.0 0.0 0.0"/>
      <inertia ixx="0.0011100" ixy="0.0" ixz="0.0" iyy="0.0011100" iyz="0.0" izz="0.0011100"/>
    </inertial>
    <visual>
      <material name="GreyB"/>
      <origin rpy="0 0 0 " xyz="0 0 0"/>
      <geometry name="right_thumb_mcp_link_geom">
        <mesh filename="package://dreamer_viz/models/dreamer/meka_description/meshes/optimized/H2R3/H2R3_thumb_knuckle1.stl"/>
      </geometry>
    </visual>
    <collision>
      <origin rpy="0.0 0.0 0.0 " xyz="0 0 0"/>
      <geometry name="right_thumb_mcp_link_collision">
        <mesh filename="package://dreamer_viz/models/dreamer/meka_description/meshes/low_res/H2R3/H2R3_thumb_knuckle1.stl"/>
      </geometry>
    </collision>
  </link>
  <gazebo reference="right_thumb_mcp_link">
    <mu1>1</mu1>
    <mu2>1</mu2>
  </gazebo>
  <joint name="right_thumb_ip" type="revolute">
    <axis xyz="0 -1 0"/>
    <origin rpy="0 0 0" xyz="-0.044 0 0"/>
    <parent link="right_thumb_mcp_link"/>
    <child link="right_thumb_ip_link"/>
    <limit effort="100" lower="-0.260752190248" upper="0.260752190248" velocity="0.872664625997"/>
  </joint>
  <link name="right_thumb_ip_link">
    <inertial>
      <mass value="0.01"/>
      <origin xyz="0.0 0.0 0.0"/>
      <inertia ixx="0.0011100" ixy="0.0" ixz="0.0" iyy="0.0011100" iyz="0.0" izz="0.0011100"/>
    </inertial>
    <visual>
      <material name="GreyC"/>
      <origin rpy="0 0 0 " xyz="0 0 0"/>
      <geometry name="thumb_knuckle2_geom">
        <mesh filename="package://dreamer_viz/models/dreamer/meka_description/meshes/optimized/H2R3/H2R3_thumb_knuckle2.stl"/>
      </geometry>
    </visual>
    <collision>
      <origin rpy="0.0 0.0 0.0 " xyz="0 0 0"/>
      <geometry name="thumb_knuckle2_collision">
        <mesh filename="package://dreamer_viz/models/dreamer/meka_description/meshes/low_res/H2R3/H2R3_thumb_knuckle2.stl"/>
      </geometry>
    </collision>
  </link>
  <gazebo reference="right_thumb_ip_link">
    <mu1>1</mu1>
    <mu2>1</mu2>
  </gazebo>
  <!-- Start Index Finger -->
  <joint name="right_pointer_finger_mcp" type="revolute">
    <axis xyz="0 1 0"/>
    <origin rpy="0 0 0" xyz="0 0.028 -0.101"/>
    <parent link="palm"/>
    <child link="right_pointer_finger_mcp_link"/>
    <limit effort="100" lower="-0.123429684701" upper="0.647028460299" velocity="0.872664625997"/>
  </joint>
  <link name="right_pointer_finger_mcp_link">
    <inertial>
      <mass value="0.01"/>
      <origin xyz="0.0 0.0 0.0"/>
      <inertia ixx="0.0011100" ixy="0.0" ixz="0.0" iyy="0.0011100" iyz="0.0" izz="0.0011100"/>
    </inertial>
    <visual>
      <material name="GreyA"/>
      <origin rpy="0 0 0 " xyz="0 0 0"/>
      <geometry name="right_pointer_finger_mcp_link_geom">
        <mesh filename="package://dreamer_viz/models/dreamer/meka_description/meshes/optimized/H2R3/H2R3_finger_knuckle1.stl"/>
      </geometry>
    </visual>
    <collision>
      <origin rpy="0.0 0.0 0.0 " xyz="0 0 0"/>
      <geometry name="right_pointer_finger_mcp_link__collision">
        <mesh filename="package://dreamer_viz/models/dreamer/meka_description/meshes/low_res/H2R3/H2R3_finger_knuckle1.stl"/>
      </geometry>
    </collision>
  </link>
  <gazebo reference="right_pointer_finger_mcp_link">
    <mu1>1</mu1>
    <mu2>1</mu2>
  </gazebo>
  <joint name="right_pointer_finger_pip" type="revolute">
    <axis xyz="0 1 0"/>
    <limit effort="100" lower="-0.610690705273" upper="0.610690705273" velocity="27.9252680319"/>
    <origin rpy="0 0 0" xyz="0 0 -0.044"/>
    <parent link="right_pointer_finger_mcp_link"/>
    <child link="right_pointer_finger_pip"/>
  </joint>
  <link name="right_pointer_finger_pip">
    <inertial>
      <mass value="0.0429"/>
      <origin xyz="0.0 0.0 0.0"/>
      <inertia ixx="0.0011100" ixy="0.0" ixz="0.0" iyy="0.0011100" iyz="0.0" izz="0.0011100"/>
    </inertial>
    <visual>
      <material name="GreyC"/>
      <origin rpy="0 0 0 " xyz="0 0 0"/>
      <geometry name="right_pointer_finger_pip_geom">
        <mesh filename="package://dreamer_viz/models/dreamer/meka_description/meshes/optimized/H2R3/H2R3_finger_knuckle2.stl"/>
      </geometry>
    </visual>
    <collision>
      <origin rpy="0.0 0.0 0.0 " xyz="0 0 0"/>
      <geometry name="right_pointer_finger_pip_collision">
        <mesh filename="package://dreamer_viz/models/dreamer/meka_description/meshes/low_res/H2R3/H2R3_finger_knuckle2.stl"/>
      </geometry>
    </collision>
  </link>
  <gazebo reference="right_pointer_finger_pip">
    <mu1>1</mu1>
    <mu2>1</mu2>
  </gazebo>
  <joint name="right_pointer_finger_dip" type="revolute">
    <axis xyz="0 1 0"/>
    <limit effort="100" lower="-0.597077137107" upper="0.597129496985" velocity="27.9252680319"/>
    <origin rpy="0 0 0" xyz="0 0 -0.032"/>
    <parent link="right_pointer_finger_pip"/>
    <child link="right_pointer_finger_dip_link"/>
  </joint>
  <link name="right_pointer_finger_dip_link">
    <inertial>
      <mass value="0.01"/>
      <origin xyz="0.0 0.0 0.0"/>
      <inertia ixx="0.0011100" ixy="0.0" ixz="0.0" iyy="0.0011100" iyz="0.0" izz="0.0011100"/>
    </inertial>
    <visual>
      <material name="GreyC"/>
      <origin rpy="0 0 0 " xyz="0 0 0"/>
      <geometry name="right_pointer_finger_dip_link_geom">
        <mesh filename="package://dreamer_viz/models/dreamer/meka_description/meshes/optimized/H2R3/H2R3_finger_knuckle3.stl"/>
      </geometry>
    </visual>
    <collision>
      <origin rpy="0.0 0.0 0.0 " xyz="0 0 0"/>
      <geometry name="right_pointer_finger_dip_link_collision">
        <mesh filename="package://dreamer_viz/models/dreamer/meka_description/meshes/low_res/H2R3/H2R3_finger_knuckle3.stl"/>
      </geometry>
    </collision>
  </link>
  <gazebo reference="right_pointer_finger_dip_link">
    <mu1>1</mu1>
    <mu2>1</mu2>
  </gazebo>
  <!-- Start Ring Finger -->
  <joint name="right_middle_finger_mcp" type="revolute">
    <axis xyz="0 1 0"/>
    <origin rpy="0 0 0" xyz="0 0 -0.101"/>
    <parent link="palm"/>
    <child link="right_middle_finger_mcp_link"/>
    <limit effort="100" lower="-0.123429684701" upper="0.647028460299" velocity="0.872664625997"/>
  </joint>
  <link name="right_middle_finger_mcp_link">
    <inertial>
      <mass value="0.01"/>
      <origin xyz="0.0 0.0 0.0"/>
      <inertia ixx="0.0011100" ixy="0.0" ixz="0.0" iyy="0.0011100" iyz="0.0" izz="0.0011100"/>
    </inertial>
    <visual>
      <material name="GreyA"/>
      <origin rpy="0 0 0 " xyz="0 0 0"/>
      <geometry name="right_middle_finger_mcp_link_geom">
        <mesh filename="package://dreamer_viz/models/dreamer/meka_description/meshes/optimized/H2R3/H2R3_finger_knuckle1.stl"/>
      </geometry>
    </visual>
    <collision>
      <origin rpy="0.0 0.0 0.0 " xyz="0 0 0"/>
      <geometry name="right_middle_finger_mcp_link__collision">
        <mesh filename="package://dreamer_viz/models/dreamer/meka_description/meshes/low_res/H2R3/H2R3_finger_knuckle1.stl"/>
      </geometry>
    </collision>
  </link>
  <gazebo reference="right_middle_finger_mcp_link">
    <mu1>1</mu1>
    <mu2>1</mu2>
  </gazebo>
  <joint name="right_middle_finger_pip" type="revolute">
    <axis xyz="0 1 0"/>
    <limit effort="100" lower="-0.610690705273" upper="0.610690705273" velocity="27.9252680319"/>
    <origin rpy="0 0 0" xyz="0 0 -0.044"/>
    <parent link="right_middle_finger_mcp_link"/>
    <child link="right_middle_finger_pip_link"/>
  </joint>
  <link name="right_middle_finger_pip_link">
    <inertial>
      <mass value="0.0429"/>
      <origin xyz="0.0 0.0 0.0"/>
      <inertia ixx="0.0011100" ixy="0.0" ixz="0.0" iyy="0.0011100" iyz="0.0" izz="0.0011100"/>
    </inertial>
    <visual>
      <material name="GreyC"/>
      <origin rpy="0 0 0 " xyz="0 0 0"/>
      <geometry name="right_middle_finger_pip_link_geom">
        <mesh filename="package://dreamer_viz/models/dreamer/meka_description/meshes/optimized/H2R3/H2R3_finger_knuckle2.stl"/>
      </geometry>
    </visual>
    <collision>
      <origin rpy="0.0 0.0 0.0 " xyz="0 0 0"/>
      <geometry name="right_middle_finger_pip_link_collision">
        <mesh filename="package://dreamer_viz/models/dreamer/meka_description/meshes/low_res/H2R3/H2R3_finger_knuckle2.stl"/>
      </geometry>
    </collision>
  </link>
  <gazebo reference="right_middle_finger_pip_link">
    <mu1>1</mu1>
    <mu2>1</mu2>
  </gazebo>
  <joint name="right_middle_finger_dip" type="revolute">
    <axis xyz="0 1 0"/>
    <limit effort="100" lower="-0.597077137107" upper="0.597129496985" velocity="27.9252680319"/>
    <origin rpy="0 0 0" xyz="0 0 -0.032"/>
    <parent link="right_middle_finger_pip_link"/>
    <child link="right_middle_finger_dip_link"/>
  </joint>
  <link name="right_middle_finger_dip_link">
    <inertial>
      <mass value="0.01"/>
      <origin xyz="0.0 0.0 0.0"/>
      <inertia ixx="0.0011100" ixy="0.0" ixz="0.0" iyy="0.0011100" iyz="0.0" izz="0.0011100"/>
    </inertial>
    <visual>
      <material name="GreyC"/>
      <origin rpy="0 0 0 " xyz="0 0 0"/>
      <geometry name="right_middle_finger_dip_link_geom">
        <mesh filename="package://dreamer_viz/models/dreamer/meka_description/meshes/optimized/H2R3/H2R3_finger_knuckle3.stl"/>
      </geometry>
    </visual>
    <collision>
      <origin rpy="0.0 0.0 0.0 " xyz="0 0 0"/>
      <geometry name="right_middle_finger_dip_link_collision">
        <mesh filename="package://dreamer_viz/models/dreamer/meka_description/meshes/low_res/H2R3/H2R3_finger_knuckle3.stl"/>
      </geometry>
    </collision>
  </link>
  <gazebo reference="right_middle_finger_dip_link">
    <mu1>1</mu1>
    <mu2>1</mu2>
  </gazebo>
  <!-- Start Pinky Finger -->
  <joint name="right_pinky_mcp" type="revolute">
    <axis xyz="0 1 0"/>
    <origin rpy="0 0 0" xyz="0 -0.028 -0.101"/>
    <parent link="palm"/>
    <child link="right_pinky_mcp"/>
    <limit effort="100" lower="-0.123429684701" upper="0.647028460299" velocity="0.872664625997"/>
  </joint>
  <link name="right_pinky_mcp">
    <inertial>
      <mass value="0.01"/>
      <origin xyz="0.0 0.0 0.0"/>
      <inertia ixx="0.0011100" ixy="0.0" ixz="0.0" iyy="0.0011100" iyz="0.0" izz="0.0011100"/>
    </inertial>
    <visual>
      <material name="GreyA"/>
      <origin rpy="0 0 0 " xyz="0 0 0"/>
      <geometry name="right_pinky_mcp_geom">
        <mesh filename="package://dreamer_viz/models/dreamer/meka_description/meshes/optimized/H2R3/H2R3_finger_knuckle1.stl"/>
      </geometry>
    </visual>
    <collision>
      <origin rpy="0.0 0.0 0.0 " xyz="0 0 0"/>
      <geometry name="right_pinky_mcp__collision">
        <mesh filename="package://dreamer_viz/models/dreamer/meka_description/meshes/low_res/H2R3/H2R3_finger_knuckle1.stl"/>
      </geometry>
    </collision>
  </link>
  <gazebo reference="right_pinky_mcp">
    <mu1>1</mu1>
    <mu2>1</mu2>
  </gazebo>
  <joint name="right_pinky_pip" type="revolute">
    <axis xyz="0 1 0"/>
    <limit effort="100" lower="-0.610690705273" upper="0.610690705273" velocity="27.9252680319"/>
    <origin rpy="0 0 0" xyz="0 0 -0.044"/>
    <parent link="right_pinky_mcp"/>
    <child link="right_pinky_pip"/>
  </joint>
  <link name="right_pinky_pip">
    <inertial>
      <mass value="0.0429"/>
      <origin xyz="0.0 0.0 0.0"/>
      <inertia ixx="0.0011100" ixy="0.0" ixz="0.0" iyy="0.0011100" iyz="0.0" izz="0.0011100"/>
    </inertial>
    <visual>
      <material name="GreyC"/>
      <origin rpy="0 0 0 " xyz="0 0 0"/>
      <geometry name="right_pinky_pip_geom">
        <mesh filename="package://dreamer_viz/models/dreamer/meka_description/meshes/optimized/H2R3/H2R3_finger_knuckle2.stl"/>
      </geometry>
    </visual>
    <collision>
      <origin rpy="0.0 0.0 0.0 " xyz="0 0 0"/>
      <geometry name="right_pinky_pip_collision">
        <mesh filename="package://dreamer_viz/models/dreamer/meka_description/meshes/low_res/H2R3/H2R3_finger_knuckle2.stl"/>
      </geometry>
    </collision>
  </link>
  <gazebo reference="right_pinky_pip">
    <mu1>1</mu1>
    <mu2>1</mu2>
  </gazebo>
  <joint name="right_pinky_dip" type="revolute">
    <axis xyz="0 1 0"/>
    <limit effort="100" lower="-0.597077137107" upper="0.597129496985" velocity="27.9252680319"/>
    <origin rpy="0 0 0" xyz="0 0 -0.032"/>
    <parent link="right_pinky_pip"/>
    <child link="right_pinky_dip_link"/>
  </joint>
  <link name="right_pinky_dip_link">
    <inertial>
      <mass value="0.01"/>
      <origin xyz="0.0 0.0 0.0"/>
      <inertia ixx="0.0011100" ixy="0.0" ixz="0.0" iyy="0.0011100" iyz="0.0" izz="0.0011100"/>
    </inertial>
    <visual>
      <material name="GreyC"/>
      <origin rpy="0 0 0 " xyz="0 0 0"/>
      <geometry name="right_pinky_dip_link_geom">
        <mesh filename="package://dreamer_viz/models/dreamer/meka_description/meshes/optimized/H2R3/H2R3_finger_knuckle3.stl"/>
      </geometry>
    </visual>
    <collision>
      <origin rpy="0.0 0.0 0.0 " xyz="0 0 0"/>
      <geometry name="right_pinky_dip_link_collision">
        <mesh filename="package://dreamer_viz/models/dreamer/meka_description/meshes/low_res/H2R3/H2R3_finger_knuckle3.stl"/>
      </geometry>
    </collision>
  </link>
  <gazebo reference="right_pinky_dip_link">
    <mu1>1</mu1>
    <mu2>1</mu2>
  </gazebo>
  <!--
    <m3_l_hand side="l" reflect="1" parent="left_wrist_yaw_link">
        <origin xyz="0.0 0.0 0.0" rpy="0 0 0" />
    </m3_l_hand>
    -->
  <!-- Add PR2 gripper onto end of left arm -->
  <!--Modify by POLAM-->
  <joint name="l_gripper_palm_joint" type="fixed">
    <origin rpy="1.57 1.57 0" xyz="0 0 0"/>
    <parent link="left_wrist_yaw_link"/>
    <child link="l_gripper_palm_link"/>
  </joint>
  <link name="l_gripper_palm_link">
    <inertial>
      <!-- <mass value="0.31047" /> -->
      <!-- This mass is used to match UTA-WBC's model -->
      <mass value="0.58007"/>
      <origin rpy="0 0 0" xyz="0.06623 0.00053 -0.00119"/>
      <inertia ixx="0.001" ixy="0.0" ixz="0.0" iyy="0.001" iyz="0.0" izz="0.001"/>
    </inertial>
    <visual>
      <origin rpy="0 0 0" xyz="0 0 0"/>
      <geometry>
        <mesh filename="package://dreamer_viz/models/dreamer/meka_description/meshes/gripper_v0/gripper_palm.dae"/>
      </geometry>
      <material name="Red"/>
    </visual>
    <collision>
      <origin rpy="0 0 0" xyz="0 0 0"/>
      <geometry>
        <mesh filename="package://dreamer_viz/models/dreamer/meka_description/meshes/gripper_v0/gripper_palm.stl"/>
      </geometry>
    </collision>
  </link>
  <joint name="l_gripper_led_joint" type="fixed">
    <!--  Need to check if we need a positive or negative Z term -->
    <origin xyz="0.0513 0.0 .0244"/>
    <parent link="l_gripper_palm_link"/>
    <child link="l_gripper_led_frame"/>
  </joint>
  <link name="l_gripper_led_frame"/>
  <joint name="l_gripper_motor_accelerometer_joint" type="fixed">
    <origin rpy="0 0 0" xyz="0 0 0"/>
    <parent link="l_gripper_palm_link"/>
    <child link="l_gripper_motor_accelerometer_link"/>
  </joint>
  <link name="l_gripper_motor_accelerometer_link">
    <inertial>
      <mass value="0.001"/>
      <origin rpy="0 0 0" xyz="0 0 0"/>
      <inertia ixx="0.001" ixy="0.0" ixz="0.0" iyy="0.001" iyz="0.0" izz="0.001"/>
    </inertial>
    <visual>
      <origin rpy="0 0 0" xyz="0 0 0"/>
      <geometry>
        <box size="0.001 0.001 0.001"/>
      </geometry>
    </visual>
    <collision>
      <origin rpy="0 0 0" xyz="0 0 0"/>
      <geometry>
        <box size="0.001 0.001 0.001"/>
      </geometry>
    </collision>
  </link>
  <joint name="l_gripper_tool_joint" type="fixed">
    <origin rpy="0 0 0" xyz="0.18 0 0"/>
    <parent link="l_gripper_palm_link"/>
    <child link="l_gripper_tool_frame"/>
  </joint>
  <link name="l_gripper_tool_frame"/>
  <!-- pr2 fingers macro -->
  <!-- Finger proximal digit -->
  <joint name="l_gripper_l_finger_joint" type="revolute">
    <axis xyz="0 0 1"/>
    <!-- limits on passive finger and finger top joints without
         transmission are not enforced by safety controllers.
         The lower/upper limits and are enforced in PR2 simulation and
         effort and velocity limits are ignored. This is also needed because
         these joints are declared revolute rather than continuous.-->
    <limit effort="1000.0" lower="0.0" upper="0.548" velocity="0.5"/>
    <dynamics damping="0.02"/>
    <origin rpy="0 0 0" xyz="0.07691 0.01 0"/>
    <parent link="l_gripper_palm_link"/>
    <child link="l_gripper_l_finger_link"/>
  </joint>
  <link name="l_gripper_l_finger_link">
    <inertial>
      <mass value="0.17126"/>
      <origin rpy="0 0 0" xyz="0.03598 0.01730 -0.00164"/>
      <inertia ixx="0.001" ixy="0.0" ixz="0.0" iyy="0.001" iyz="0.0" izz="0.001"/>
    </inertial>
    <visual>
      <origin rpy="0 0 0" xyz="0 0 0"/>
      <geometry>
        <mesh filename="package://dreamer_viz/models/dreamer/meka_description/meshes/gripper_v0/l_finger.dae"/>
      </geometry>
      <material name="Grey"/>
    </visual>
    <collision>
      <origin rpy="0 0 0" xyz="0 0 0"/>
      <geometry>
        <mesh filename="package://dreamer_viz/models/dreamer/meka_description/meshes/gripper_v0/l_finger.stl"/>
      </geometry>
    </collision>
  </link>
  <!-- Finger proximal digit -->
  <joint name="l_gripper_r_finger_joint" type="revolute">
    <axis xyz="0 0 -1"/>
    <origin rpy="0 0 0" xyz="0.07691 -0.01 0"/>
    <!-- limits on passive finger and finger top joints without
         transmission are not enforced by safety controllers.
         The lower/upper limits and are enforced in PR2 simulation and
         effort and velocity limits are ignored. This is also needed because
         these joints are declared revolute rather than continuous.-->
    <limit effort="1000.0" lower="0.0" upper="0.548" velocity="0.5"/>
    <dynamics damping="0.02"/>
    <mimic joint="l_gripper_l_finger_joint" multiplier="1" offset="0"/>
    <parent link="l_gripper_palm_link"/>
    <child link="l_gripper_r_finger_link"/>
  </joint>
  <link name="l_gripper_r_finger_link">
    <inertial>
      <mass value="0.17389"/>
      <origin rpy="0 0 0" xyz="0.03576 -0.01736 -0.00095"/>
      <inertia ixx="0.001" ixy="0.0" ixz="0.0" iyy="0.001" iyz="0.0" izz="0.001"/>
    </inertial>
    <visual>
      <origin rpy="3.14159265359 0 0" xyz="0 0 0"/>
      <geometry>
        <mesh filename="package://dreamer_viz/models/dreamer/meka_description/meshes/gripper_v0/l_finger.dae"/>
      </geometry>
      <material name="Grey"/>
    </visual>
    <collision>
      <origin rpy="3.14159265359 0 0" xyz="0 0 0"/>
      <geometry>
        <mesh filename="package://dreamer_viz/models/dreamer/meka_description/meshes/gripper_v0/l_finger.stl"/>
      </geometry>
    </collision>
  </link>
  <!-- Finger tip -->
  <joint name="l_gripper_l_finger_tip_joint" type="revolute">
    <axis xyz="0 0 -1"/>
    <origin rpy="0 0 0" xyz="0.09137 0.00495 0"/>
    <!-- limits on passive finger and finger top joints without
         transmission are not enforced by safety controllers.
         The lower/upper limits and are enforced in PR2 simulation and
         effort and velocity limits are ignored. This is also needed because
         these joints are declared revolute rather than continuous.-->
    <limit effort="1000.0" lower="0.0" upper="0.548" velocity="0.5"/>
    <dynamics damping="0.001"/>
    <mimic joint="l_gripper_l_finger_joint" multiplier="1" offset="0"/>
    <parent link="l_gripper_l_finger_link"/>
    <child link="l_gripper_l_finger_tip_link"/>
  </joint>
  <link name="l_gripper_l_finger_tip_link">
    <inertial>
      <mass value="0.04419"/>
      <origin rpy="0 0 0" xyz="0.00423 0.00284 0.0"/>
      <inertia ixx="0.001" ixy="0.0" ixz="0.0" iyy="0.001" iyz="0.0" izz="0.001"/>
    </inertial>
    <visual>
      <origin rpy="0 0 0" xyz="0 0 0"/>
      <geometry>
        <mesh filename="package://dreamer_viz/models/dreamer/meka_description/meshes/gripper_v0/l_finger_tip.dae"/>
      </geometry>
      <material name="Green"/>
    </visual>
    <collision>
      <origin rpy="0 0 0" xyz="0 0 0"/>
      <geometry>
        <mesh filename="package://dreamer_viz/models/dreamer/meka_description/meshes/gripper_v0/l_finger_tip.stl"/>
      </geometry>
    </collision>
  </link>
  <!-- Finger tip -->
  <joint name="l_gripper_r_finger_tip_joint" type="revolute">
    <axis xyz="0 0 1"/>
    <origin rpy="0 0 0" xyz="0.09137 -0.00495 0"/>
    <!-- limits on passive finger and finger top joints without
         transmission are not enforced by safety controllers.
         The lower/upper limits and are enforced in PR2 simulation and
         effort and velocity limits are ignored. This is also needed because
         these joints are declared revolute rather than continuous.-->
    <limit effort="1000.0" lower="0.0" upper="0.548" velocity="0.5"/>
    <dynamics damping="0.001"/>
    <mimic joint="l_gripper_l_finger_joint" multiplier="1" offset="0"/>
    <parent link="l_gripper_r_finger_link"/>
    <child link="l_gripper_r_finger_tip_link"/>
  </joint>
  <link name="l_gripper_r_finger_tip_link">
    <inertial>
      <mass value="0.04419"/>
      <origin rpy="0 0 0" xyz="0.00423 -0.00284 0.0"/>
      <inertia ixx="0.001" ixy="0.0" ixz="0.0" iyy="0.001" iyz="0.0" izz="0.001"/>
    </inertial>
    <visual>
      <origin rpy="3.14159265359 0 0" xyz="0 0 0"/>
      <geometry>
        <mesh filename="package://dreamer_viz/models/dreamer/meka_description/meshes/gripper_v0/l_finger_tip.dae"/>
      </geometry>
      <material name="Green"/>
    </visual>
    <collision>
      <origin rpy="3.14159265359 0 0" xyz="0 0 0"/>
      <geometry>
        <mesh filename="package://dreamer_viz/models/dreamer/meka_description/meshes/gripper_v0/l_finger_tip.stl"/>
      </geometry>
    </collision>
  </link>
  <link name="world">
    <!-- Virtual Link -->
    <inertial>
      <mass value="0.1"/>
      <origin rpy="0 0 0" xyz="0 0 1.2"/>
      <inertia ixx="8.33333333333e-05" ixy="0.0" ixz="0.0" iyy="8.33333333333e-05" iyz="0.0" izz="0.000125"/>
    </inertial>
  </link>
  <joint name="panplateOffset" type="fixed">
    <origin rpy="0 0 0" xyz="0 0 0"/>
    <axis xyz="0 0 1"/>
    <parent link="world"/>
    <child link="panplate_link"/>
  </joint>
</robot>
